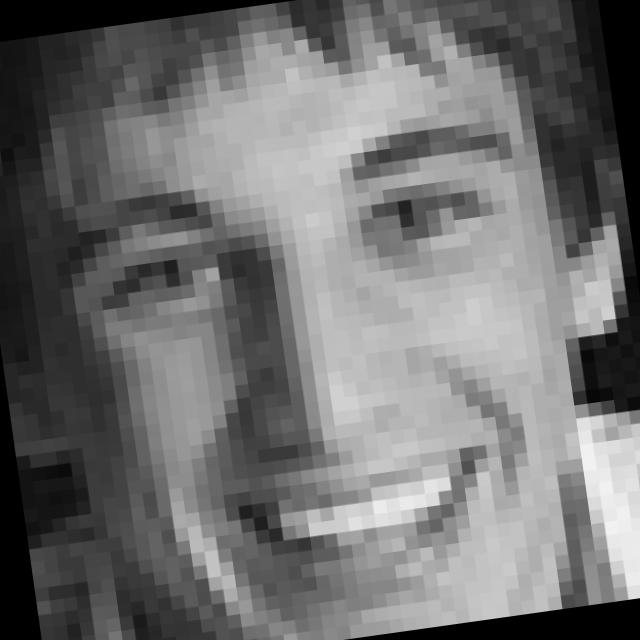happy: (52, 105, 579, 640)
